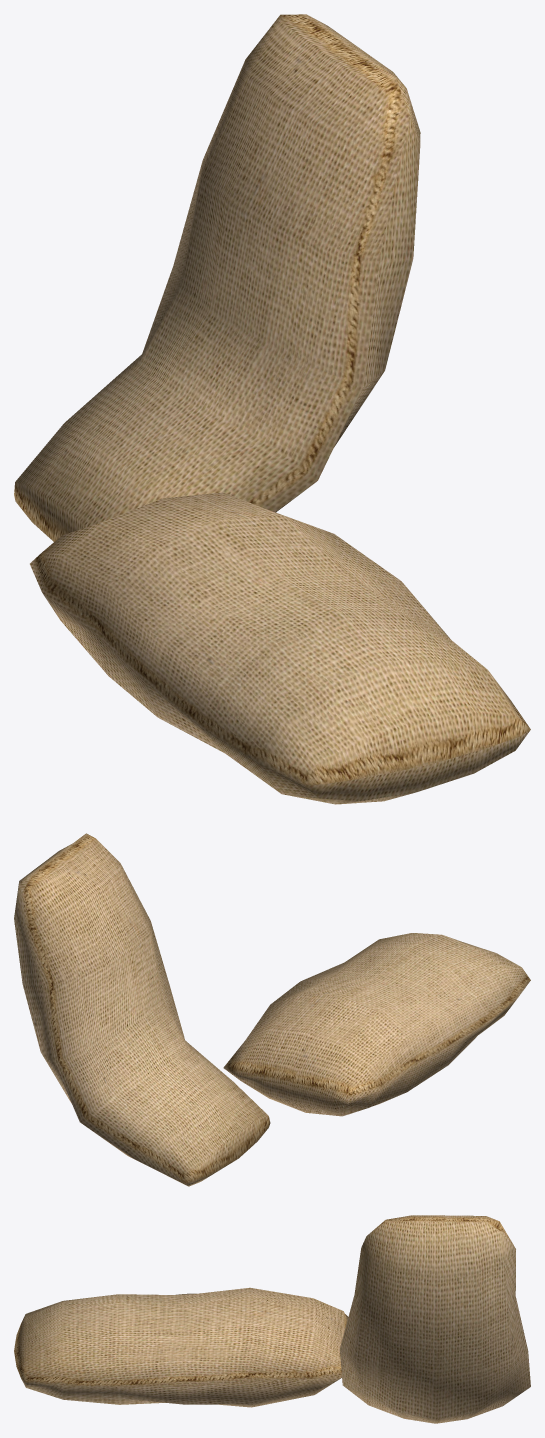
The model's file is sacks_obj.obj.
3 renders of one model, top to bottom at view 1: azimuth 30°, elevation 25°; view 2: azimuth 150°, elevation 25°; view 3: azimuth 270°, elevation 25°, orthographic. The views are drawn at different scales.
Parts seen in each view (by area): view 1: sacks; view 2: sacks; view 3: sacks.
Boxes of the visible parts, x1=… form: sacks: x1=14, y1=14, x2=530, y2=804; sacks: x1=14, y1=833, x2=530, y2=1186; sacks: x1=14, y1=1215, x2=530, y2=1423.
Size of the model in its own units: 7.7 by 7.05 by 12.86.
